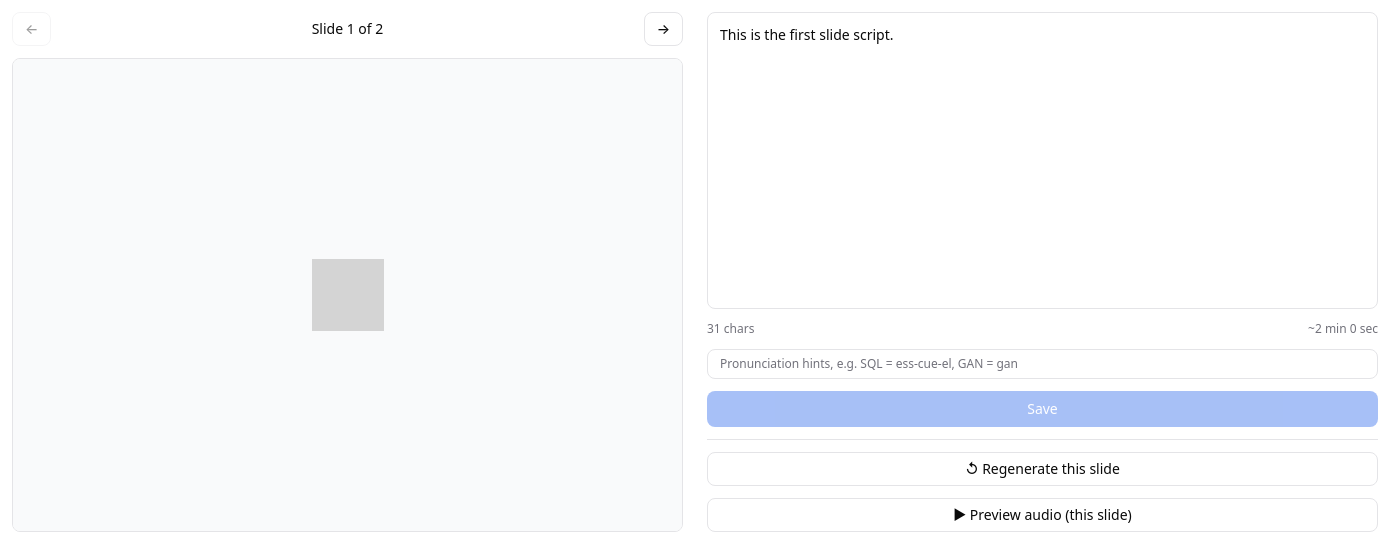
Test: SlideEditor › shows 'Unsaved changes' label when text differs from saved
This screenshot has width=1390, height=549.
In the text box showing "This is the first slide script.": (1042, 160) x1=707 y1=12 x2=1378 y2=309, type " edited"
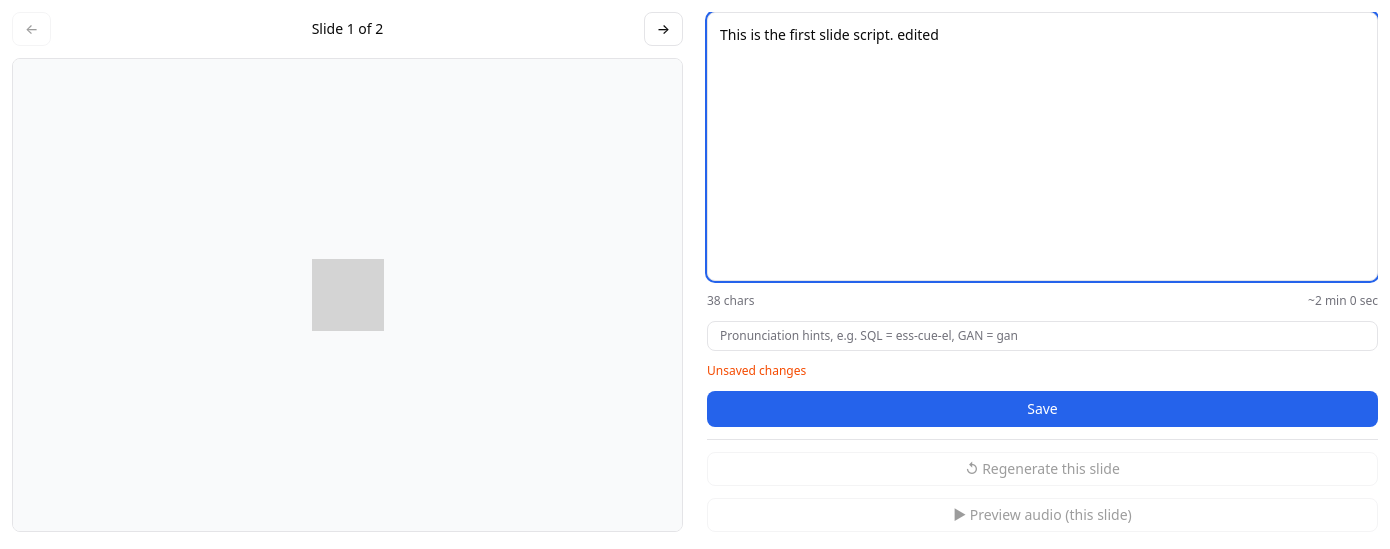
Expected: the text "Unsaved changes" is shown, x1=707 y1=362 x2=806 y2=379
